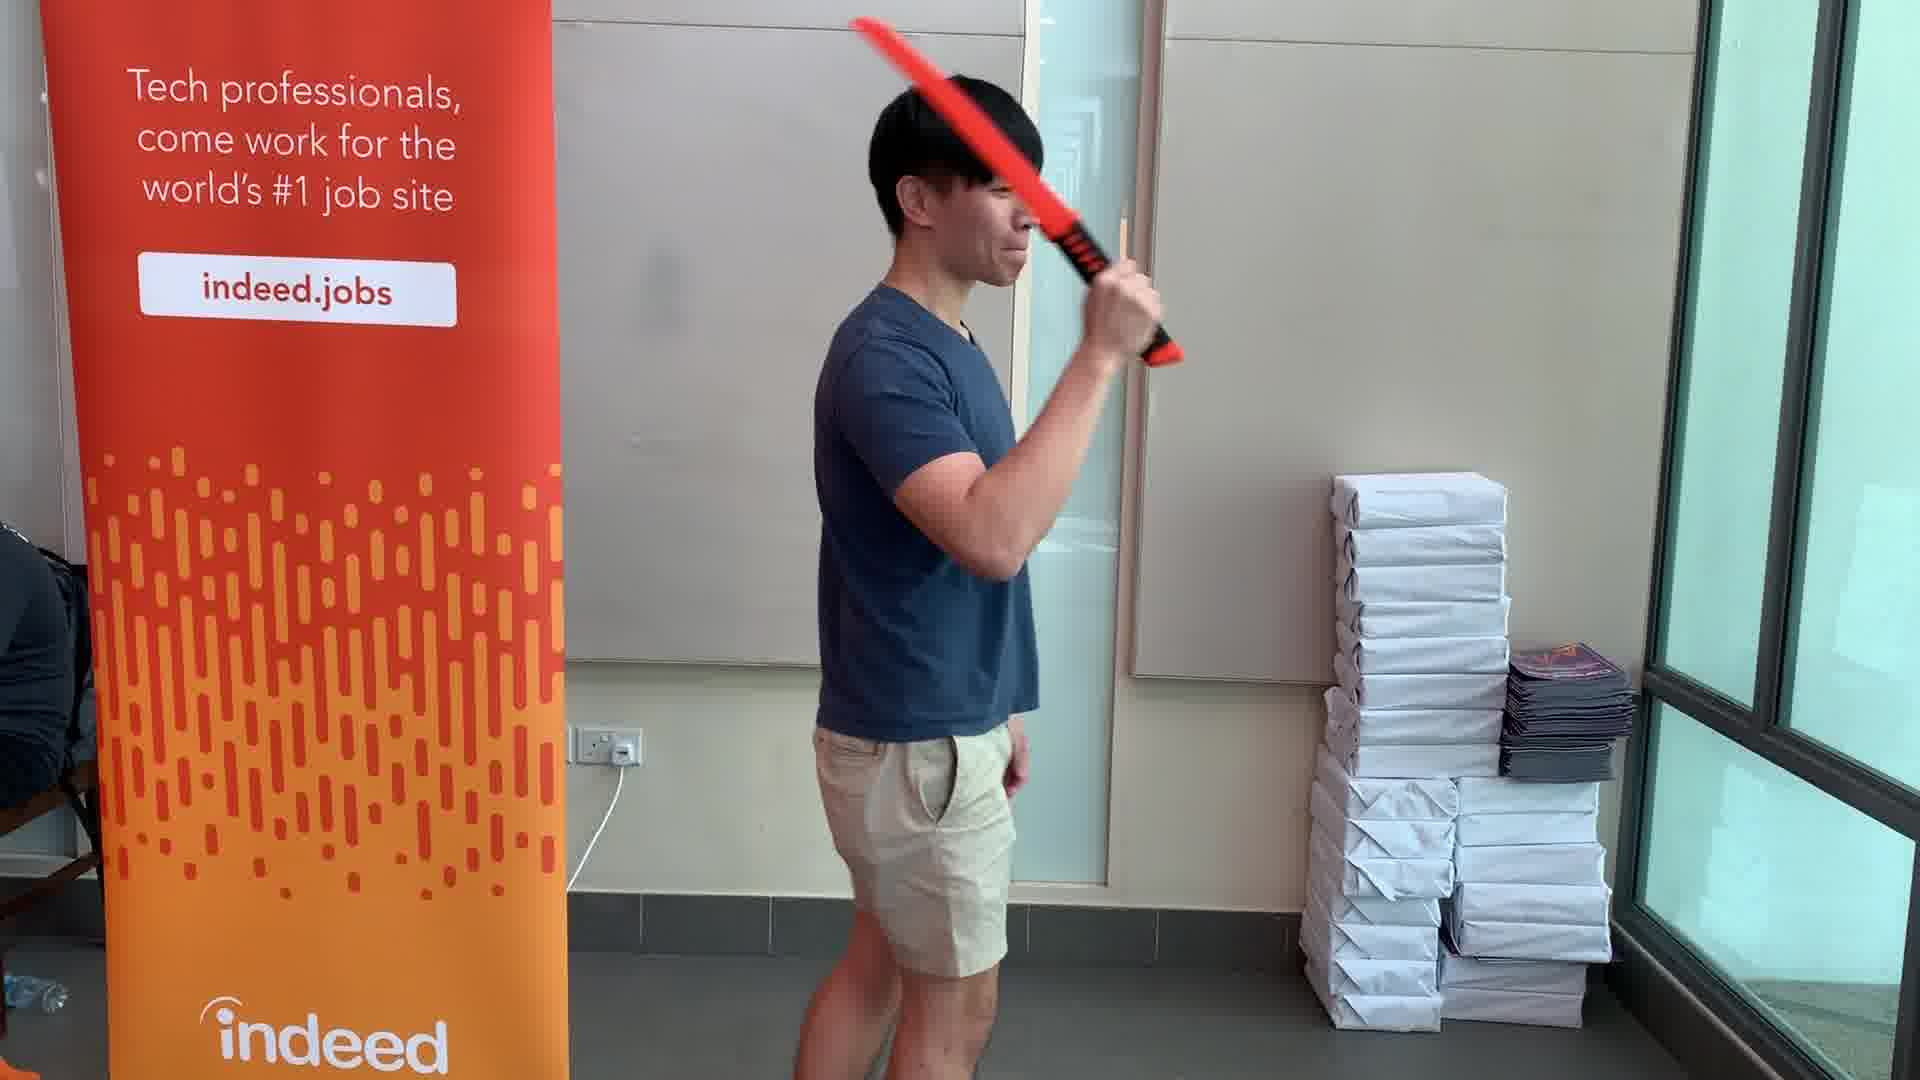knife: (843, 11, 1200, 376)
